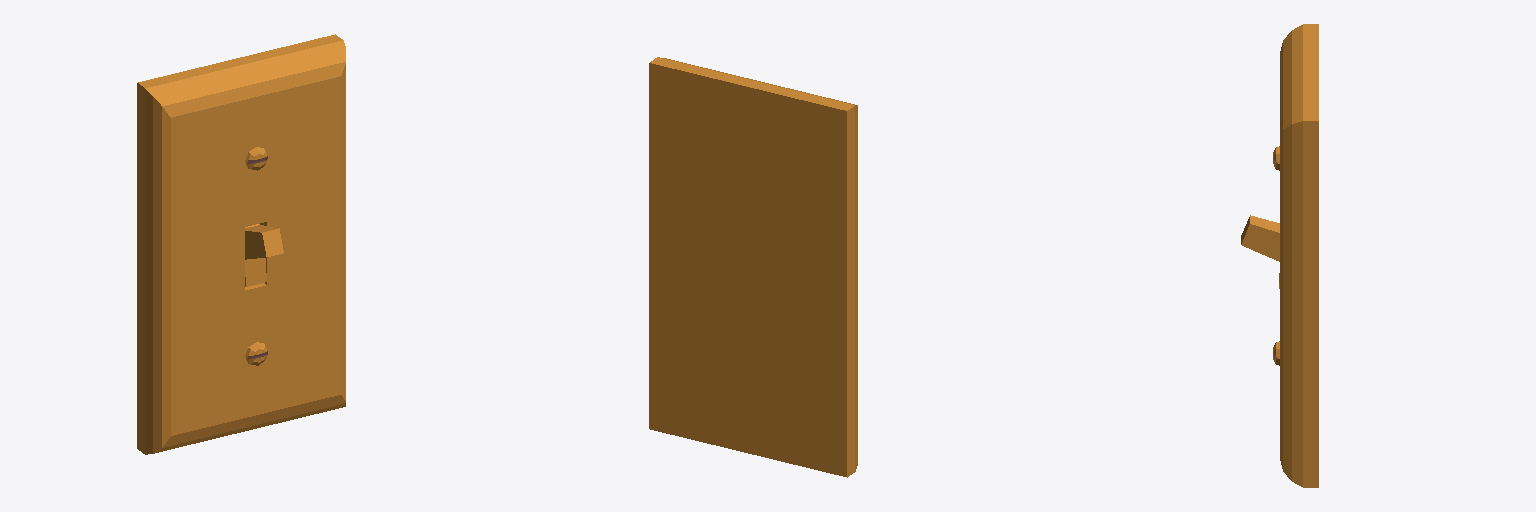
File: LightSwitch_01.obj
The picture shows the model from 3 angles: view 1: azimuth 30°, elevation 25°; view 2: azimuth 150°, elevation 25°; view 3: azimuth 270°, elevation 25°; orthographic projection.
Parts seen in each view (by area): view 1: Light_switch_Cube.035; view 2: Light_switch_Cube.035; view 3: Light_switch_Cube.035.
Part boxes in pixels (x1,y1,x2,y2): Light_switch_Cube.035: (137, 34, 345, 454); Light_switch_Cube.035: (649, 57, 857, 477); Light_switch_Cube.035: (1241, 24, 1318, 487).
Bounding box in the file's own units: 5.66 × 10.02 × 1.93.